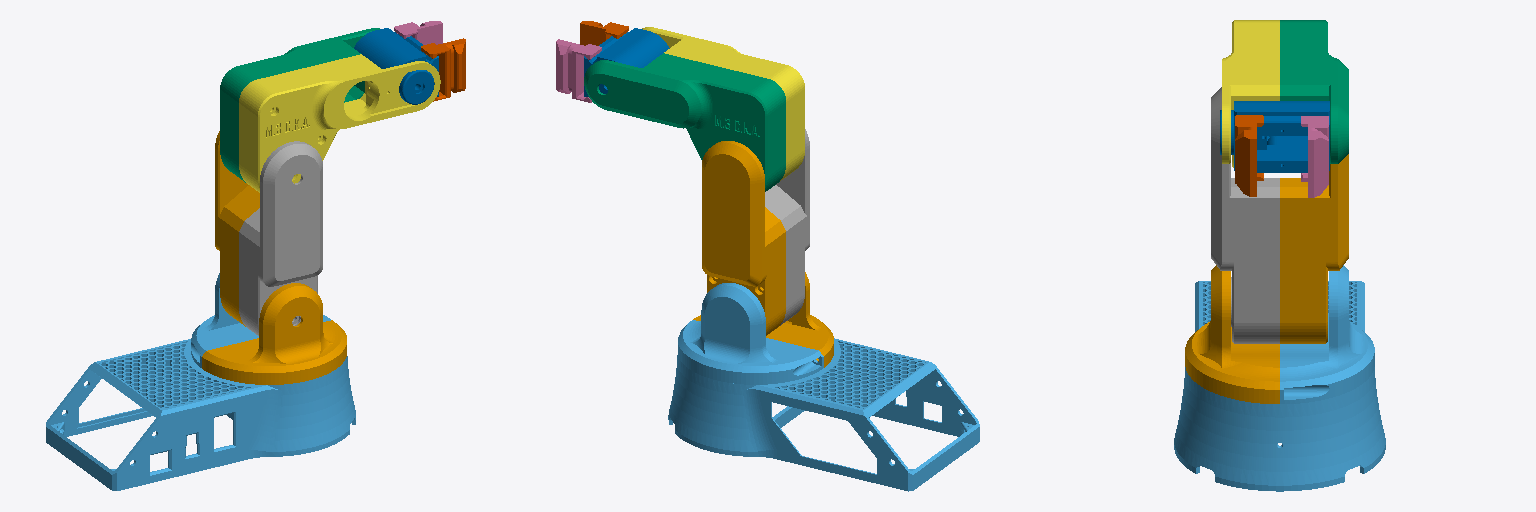
URDF robot description (robot):
<?xml version="1.0" encoding="UTF-8"?>
<robot name="robot">
  <joint name="b2_FixedJoint" type="fixed">
    <origin xyz="-0.1500015 89.49999 14.999998 " rpy="3.1415925 0. -3.1415927"/>
    <parent link="b2"/>
    <child link="b1"/>
  </joint>
  <joint name="f2_FixedJoint" type="fixed">
    <origin xyz="36.25 -19.882408 -15. " rpy="-3.1415927 0. 1.5707964"/>
    <parent link="f2"/>
    <child link="f1"/>
  </joint>
  <joint name="joint0" type="revolute">
    <origin xyz="0. 0.000002 0.0000003" rpy="0. 0. 0."/>
    <parent link="mb1"/>
    <child link="b2"/>
    <axis xyz="0. 1. 0."/>
    <limit lower="-1.5707963" upper="1.5707963" effort="10000000." velocity="0."/>
  </joint>
  <joint name="joint1" type="revolute">
    <origin xyz="0. -0.0000044 40. " rpy="0. 0. 0."/>
    <parent link="b1"/>
    <child link="m1"/>
    <axis xyz="0. 0. 1."/>
    <limit lower="-1.5707963" upper="1.5707963" effort="10000000." velocity="0."/>
  </joint>
  <joint name="joint2" type="revolute">
    <origin xyz="-0.0324102 90.00001 0.0000018" rpy="0. -0. 1.5707964"/>
    <parent link="m1"/>
    <child link="f2"/>
    <axis xyz="0. 0. 1."/>
    <limit lower="-1.5707963" upper="1.5707963" effort="10000000." velocity="0."/>
  </joint>
  <joint name="joint3" type="revolute">
    <origin xyz="37.5 -82.38241 -21.122341" rpy="0. 0. 1.5707964"/>
    <parent link="f2"/>
    <child link="g1"/>
    <axis xyz="0. 0. 1."/>
    <limit lower="-1.5707963" upper="1.5707963" effort="10000000." velocity="0."/>
  </joint>
  <joint name="left_finger" type="prismatic">
    <origin xyz="0.0000024 0. -0.0000006" rpy="0. 0. 0."/>
    <parent link="g1"/>
    <child link="g3"/>
    <axis xyz="0. 0. 1."/>
    <limit lower="0." upper="10." effort="10000000." velocity="0."/>
  </joint>
  <joint name="m2_FixedJoint" type="fixed">
    <origin xyz="-0.0324097 90.00001 -19.999998 " rpy="0. -0. 1.5707964"/>
    <parent link="m1"/>
    <child link="m2"/>
  </joint>
  <joint name="right_finger" type="prismatic">
    <origin xyz="0.0000006 -0.0000002 -0.0000003" rpy="0. 0. 0."/>
    <parent link="g1"/>
    <child link="g4"/>
    <axis xyz="0. 0. 1."/>
    <limit lower="-10." upper="0." effort="0." velocity="0."/>
  </joint>
  <joint name="root_joint" type="fixed">
    <origin xyz="-0.2 2.5 -13. " rpy="1.5707964 0. 3.1415927"/>
    <parent link="robot"/>
    <child link="mb1"/>
  </joint>
  <link name="b1">
    <visual>
      <origin xyz="190. -0.0000043 200. " rpy="0. 0. 0."/>
      <geometry>
        <mesh filename="meshes/b1_mesh.obj" scale="1. 1. 1."/>
      </geometry>
    </visual>
    <collision>
      <origin xyz="190. -0.0000043 200. " rpy="0. 0. 0."/>
      <geometry>
        <mesh filename="meshes/b1_mesh.obj" scale="1. 1. 1."/>
      </geometry>
    </collision>
  </link>
  <link name="b2">
    <visual>
      <origin xyz="-190.15 89.5 -185. " rpy="3.1415927 0. -3.1415927"/>
      <geometry>
        <mesh filename="meshes/b2_mesh.obj" scale="1. 1. 1."/>
      </geometry>
    </visual>
    <collision>
      <origin xyz="-190.15 89.5 -185. " rpy="3.1415927 0. -3.1415927"/>
      <geometry>
        <mesh filename="meshes/b2_mesh.obj" scale="1. 1. 1."/>
      </geometry>
    </collision>
  </link>
  <link name="f1">
    <visual>
      <origin xyz="120. -35.000004 190. " rpy="0. 0. 0."/>
      <geometry>
        <mesh filename="meshes/f1_mesh.obj" scale="1. 1. 1."/>
      </geometry>
    </visual>
    <collision>
      <origin xyz="120. -35.000004 190. " rpy="0. 0. 0."/>
      <geometry>
        <mesh filename="meshes/f1_mesh.obj" scale="1. 1. 1."/>
      </geometry>
    </collision>
  </link>
  <link name="f2">
    <visual>
      <origin xyz="1.2499962 100.11759 -205. " rpy="3.1415927 0. 1.5707964"/>
      <geometry>
        <mesh filename="meshes/f2_mesh.obj" scale="1. 1. 1."/>
      </geometry>
    </visual>
    <collision>
      <origin xyz="1.2499962 100.11759 -205. " rpy="3.1415927 0. 1.5707964"/>
      <geometry>
        <mesh filename="meshes/f2_mesh.obj" scale="1. 1. 1."/>
      </geometry>
    </collision>
  </link>
  <link name="g1">
    <visual>
      <origin xyz="182.5 -34.999992 180. " rpy="0. 0. 0."/>
      <geometry>
        <mesh filename="meshes/g1_mesh.obj" scale="1. 1. 1."/>
      </geometry>
    </visual>
    <collision>
      <origin xyz="182.5 -34.999992 180. " rpy="0. 0. 0."/>
      <geometry>
        <mesh filename="meshes/g1_mesh.obj" scale="1. 1. 1."/>
      </geometry>
    </collision>
  </link>
  <link name="g3">
    <visual>
      <origin xyz="179.91591 -35.000114 188.52669 " rpy="0. 0. 0."/>
      <geometry>
        <mesh filename="meshes/g3_mesh.obj" scale="1. 1. 1."/>
      </geometry>
    </visual>
    <collision>
      <origin xyz="179.91591 -35.000114 188.52669 " rpy="0. 0. 0."/>
      <geometry>
        <mesh filename="meshes/g3_mesh.obj" scale="1. 1. 1."/>
      </geometry>
    </collision>
  </link>
  <link name="g4">
    <visual>
      <origin xyz="179.72572 -34.679237 171.19058 " rpy="0. 0. 0."/>
      <geometry>
        <mesh filename="meshes/g4_mesh.obj" scale="1. 1. 1."/>
      </geometry>
    </visual>
    <collision>
      <origin xyz="179.72572 -34.679237 171.19058 " rpy="0. 0. 0."/>
      <geometry>
        <mesh filename="meshes/g4_mesh.obj" scale="1. 1. 1."/>
      </geometry>
    </collision>
  </link>
  <link name="m1">
    <visual>
      <origin xyz="-0.0324071 190. 160. " rpy="0. -0. 1.5707964"/>
      <geometry>
        <mesh filename="meshes/m1_mesh.obj" scale="1. 1. 1."/>
      </geometry>
    </visual>
    <collision>
      <origin xyz="-0.0324071 190. 160. " rpy="0. -0. 1.5707964"/>
      <geometry>
        <mesh filename="meshes/m1_mesh.obj" scale="1. 1. 1."/>
      </geometry>
    </collision>
  </link>
  <link name="m2">
    <visual>
      <origin xyz="99.99999 -0.0000026 180. " rpy="0. 0. 0."/>
      <geometry>
        <mesh filename="meshes/m2_mesh.obj" scale="1. 1. 1."/>
      </geometry>
    </visual>
    <collision>
      <origin xyz="99.99999 -0.0000026 180. " rpy="0. 0. 0."/>
      <geometry>
        <mesh filename="meshes/m2_mesh.obj" scale="1. 1. 1."/>
      </geometry>
    </collision>
  </link>
  <link name="mb1">
    <visual>
      <origin xyz="190. 90. 180." rpy="0. 0. 0."/>
      <geometry>
        <mesh filename="meshes/mb1_mesh.obj" scale="1. 1. 1."/>
      </geometry>
    </visual>
    <collision>
      <origin xyz="190. 90. 180." rpy="0. 0. 0."/>
      <geometry>
        <mesh filename="meshes/mb1_mesh.obj" scale="1. 1. 1."/>
      </geometry>
    </collision>
  </link>
  <link name="robot"/>
</robot>

--- Render facts (derived) ---
The picture shows the robot from 3 angles, left to right: view 1: azimuth 30°, elevation 25°; view 2: azimuth 150°, elevation 25°; view 3: azimuth 270°, elevation 25°; orthographic projection.
Robot: robot — 11 links, 10 joints (4 revolute, 2 prismatic, 4 fixed); root link robot; default pose: all joints at 0.
Visible links, largest first — view 1: mb1, f2, m1, b1, f1, m2, g1, b2, g3, g4; view 2: mb1, f1, m2, b2, f2, m1, g1, b1, g4, g3; view 3: mb1, m1, m2, b2, b1, f1, f2, g1, g3, g4.
Boxes of the visible links, left/top/right/bottom form: mb1: left=46, top=339, right=355, bottom=490; f2: left=239, top=54, right=440, bottom=192; m1: left=239, top=141, right=322, bottom=335; b1: left=202, top=283, right=346, bottom=384; f1: left=220, top=28, right=379, bottom=182; m2: left=215, top=131, right=259, bottom=326; g1: left=354, top=28, right=438, bottom=104; b2: left=191, top=273, right=330, bottom=367; g3: left=421, top=38, right=465, bottom=101; g4: left=394, top=21, right=442, bottom=44; mb1: left=668, top=338, right=979, bottom=491; f1: left=584, top=53, right=785, bottom=191; m2: left=702, top=141, right=785, bottom=335; b2: left=678, top=283, right=823, bottom=384; f2: left=642, top=27, right=804, bottom=180; m1: left=765, top=129, right=809, bottom=325; g1: left=584, top=28, right=669, bottom=96; b1: left=693, top=272, right=833, bottom=367; g4: left=556, top=39, right=601, bottom=102; g3: left=580, top=21, right=628, bottom=45; mb1: left=1174, top=281, right=1385, bottom=491; m1: left=1211, top=87, right=1279, bottom=343; m2: left=1280, top=154, right=1348, bottom=343; b2: left=1280, top=265, right=1374, bottom=403; b1: left=1185, top=265, right=1279, bottom=403; f1: left=1280, top=20, right=1348, bottom=163; f2: left=1222, top=20, right=1279, bottom=167; g1: left=1220, top=101, right=1329, bottom=172; g3: left=1235, top=115, right=1263, bottom=196; g4: left=1301, top=116, right=1328, bottom=197.
Size in the robot's own frame: 249 by 100 by 217 metres.
10 mesh visuals loaded from 10 distinct referenced files (10 OBJ).
